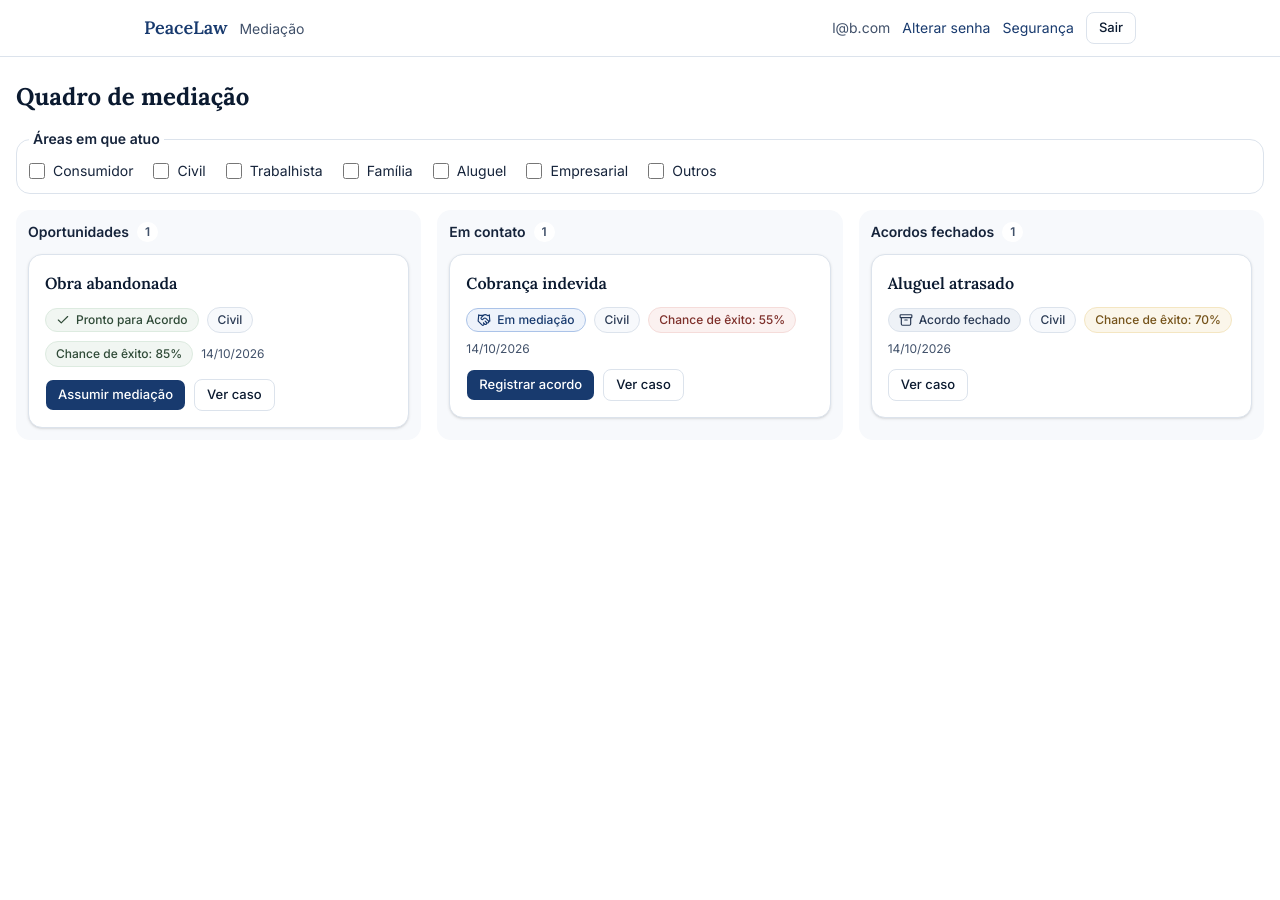
Test case: LawyerBoard › opens the case drawer with the anonymized text and professional score
Click the button "Ver caso" below "Obra abandonada" at (234, 395), box [194,379,274,411]
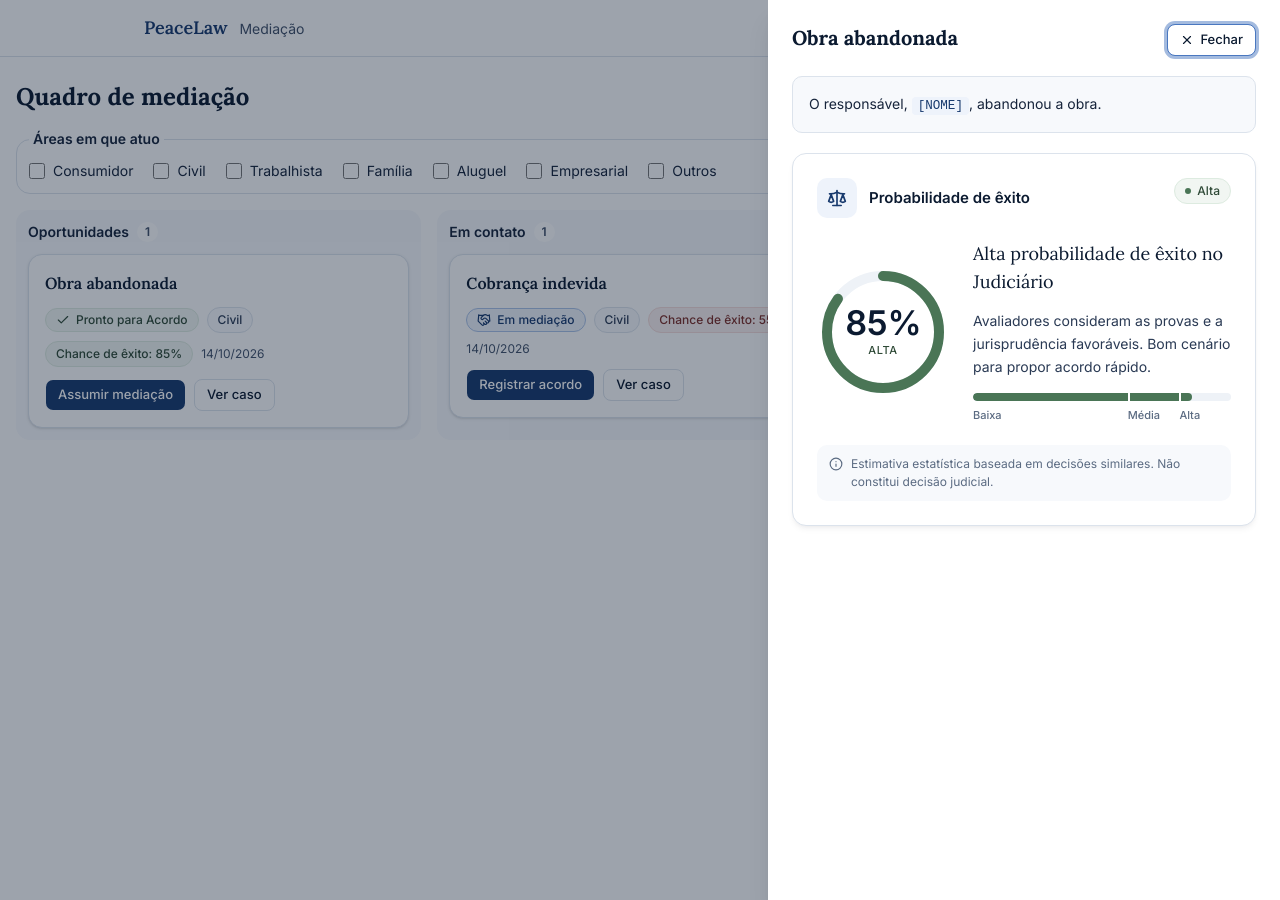
Check: the text "[NOME]" is shown, box [912,97,969,115]
Check: the text "Alta probabilidade de êxito no Judiciário" is shown, box [973,240,1231,296]
Press Escape
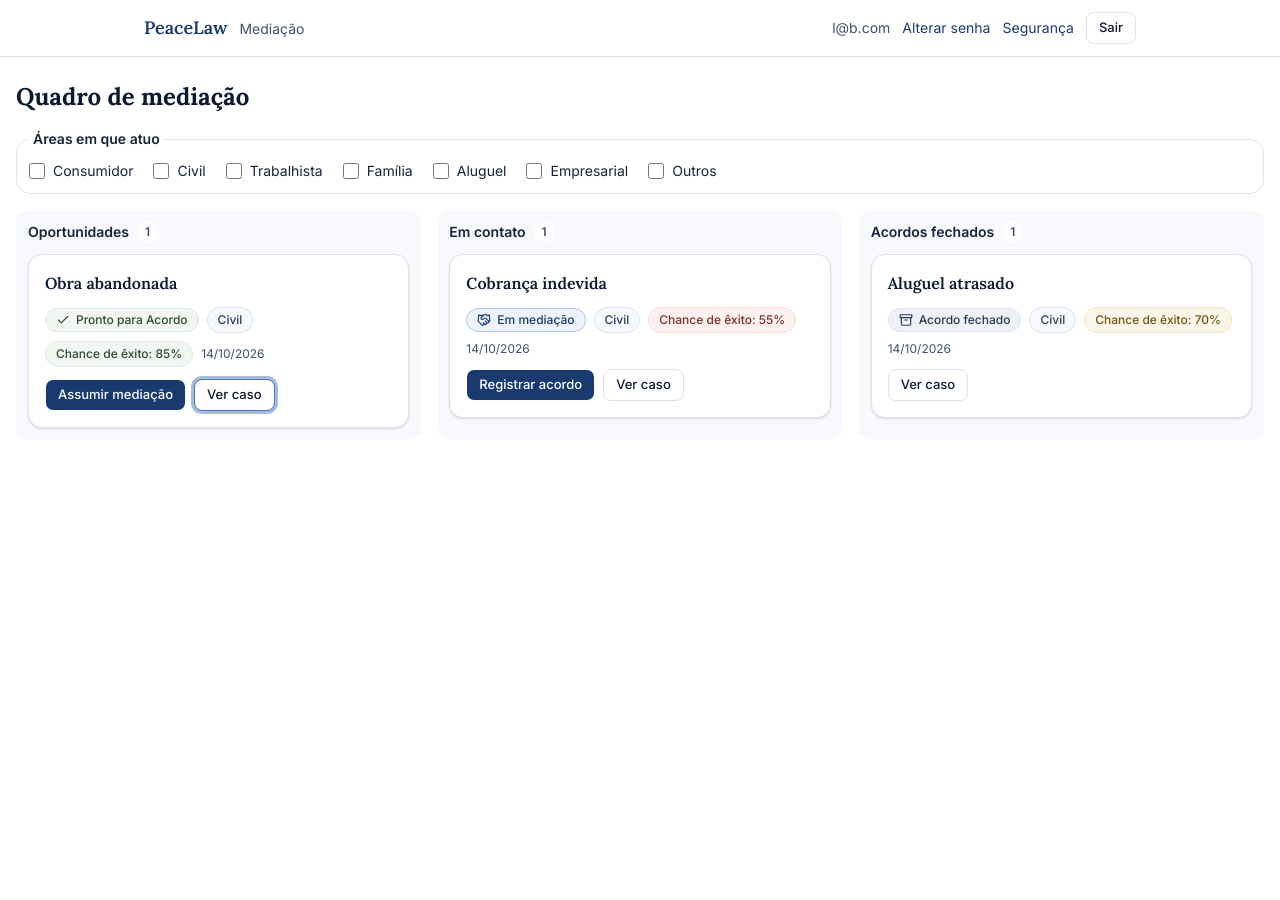
Check: the dialog is gone
